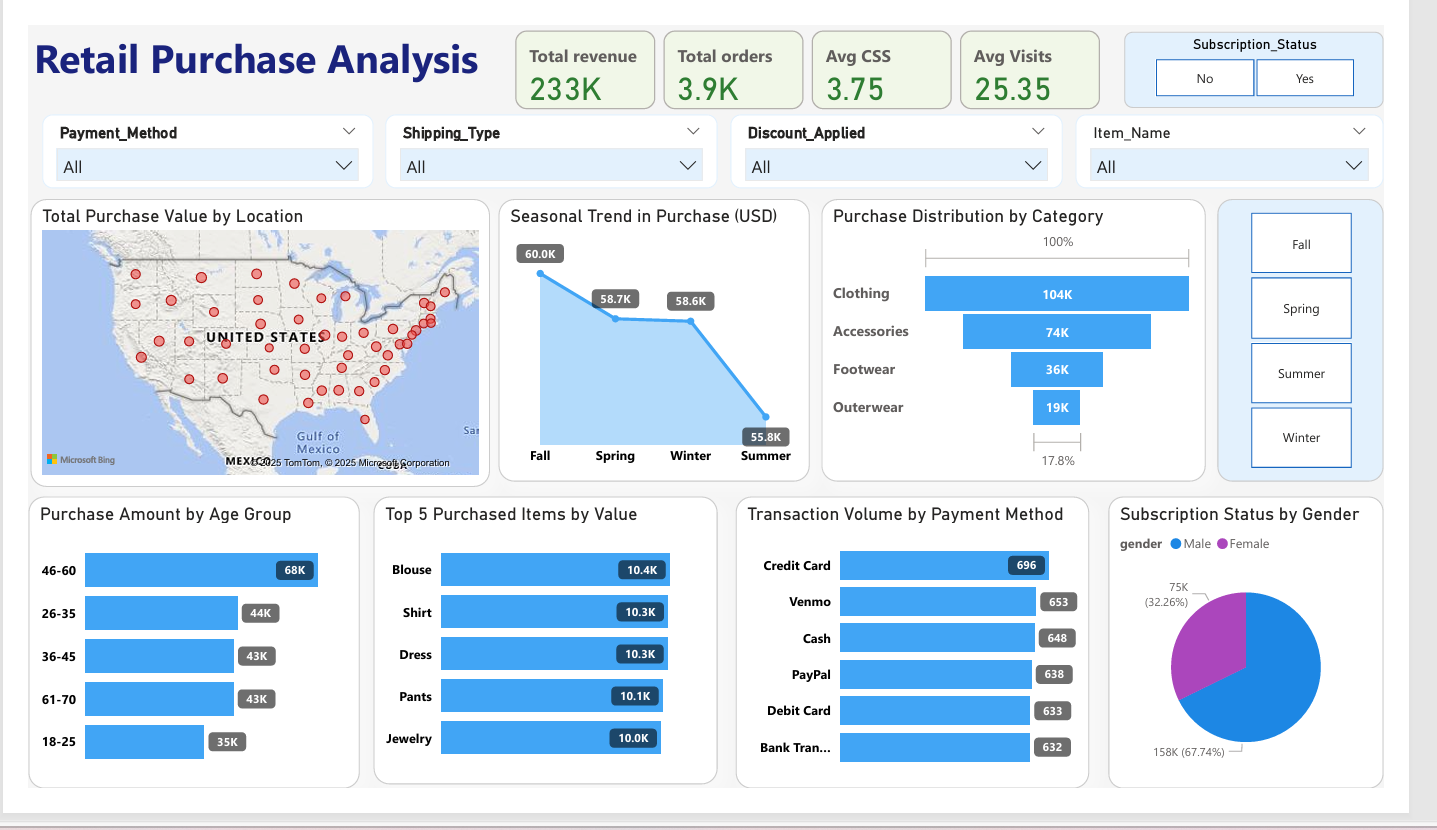

What the dashboard file says about the page in this screenshot:
{"tool":"powerbi","page":{"name":"Page 1","canvas":[1280,720],"ordinal":0},"visuals":[{"type":"textbox","box":[0,0,434.2,60.4],"z":0},{"type":"funnel","title":"Purchase Distribution by Category","fields":{"Category":["public shopping_data.category"],"Y":["Sum(public shopping_data.purchase_amount_usd)"]},"box":[749.2,163.8,362.7,267.2],"z":1000},{"type":"clusteredBarChart","title":"Purchase Amount by Age Group","fields":{"Category":["public shopping_data.AGE1"],"Y":["Sum(public shopping_data.purchase_amount_usd)"]},"box":[0,445.4,313.4,275.2],"z":2000},{"type":"clusteredBarChart","title":"Transaction Volume by Payment Method","fields":{"Category":["public shopping_data.payment_method"],"Y":["CountNonNull(public shopping_data.purchase_amount_usd)"]},"box":[668.1,445.4,334,275.2],"z":3000},{"type":"pieChart","title":"Sales by Gender","fields":{"Category":["public shopping_data.gender"],"Y":["Sum(public shopping_data.purchase_amount_usd)"]},"box":[1019.6,445.4,260.9,275.2],"z":4000},{"type":"map","title":"Total Purchase Value by Location","fields":{"Category":["public shopping_data.location"],"Size":["Sum(public shopping_data.purchase_amount_usd)"]},"box":[1.6,163.8,434.2,272],"z":5000},{"type":"areaChart","title":"Seasonal Trend in Purchase (USD)","fields":{"Category":["public shopping_data.season"],"Y":["Sum(public shopping_data.purchase_amount_usd)"]},"box":[443.8,163.8,294.3,267.2],"z":6000},{"type":"cardVisual","fields":{"Data":["Sum(public shopping_data.purchase_amount_usd)","CountNonNull(public shopping_data.purchase_amount_usd)","Avg(public shopping_data.review_rating)","Avg(public shopping_data.previous_purchases)"]},"box":[454.9,0,564.7,84.3],"z":7000},{"type":"barChart","title":"Top 5 Purchased Items by Value","fields":{"Y":["Sum(public shopping_data.purchase_amount_usd)"],"Category":["public shopping_data.item_purchased"]},"box":[326.1,445.4,324.5,272],"z":8000},{"type":"slicer","fields":{"Values":["public shopping_data.season"]},"box":[1123,163.8,157.5,267.2],"z":9000},{"type":"slicer","title":"Subscription_Status","fields":{"Values":["public shopping_data.subscription_status"]},"box":[1035.5,6.4,245,71.6],"z":10000},{"type":"slicer","fields":{"Values":["public shopping_data.item_purchased"]},"box":[989.4,84.3,291.1,70],"z":11000},{"type":"slicer","fields":{"Values":["public shopping_data.discount_applied"]},"box":[663.3,84.3,313.4,70],"z":12000},{"type":"slicer","fields":{"Values":["public shopping_data.shipping_type"]},"box":[337.2,84.3,313.4,70],"z":13000},{"type":"slicer","fields":{"Values":["public shopping_data.payment_method"]},"box":[12.7,84.3,313.4,70],"z":14000}]}

Visuals, with their boxes in screenshot pixels (x1, y1, x2, y2), scaled from the page's 1280x720 canvas onto the 1437x830 screenshot:
textbox: <bbox>0, 0, 487, 70</bbox>
"Purchase Distribution by Category" funnel: <bbox>841, 189, 1248, 497</bbox>
"Purchase Amount by Age Group" clusteredBarChart: <bbox>0, 513, 352, 829</bbox>
"Transaction Volume by Payment Method" clusteredBarChart: <bbox>750, 513, 1125, 829</bbox>
"Sales by Gender" pieChart: <bbox>1145, 513, 1436, 829</bbox>
"Total Purchase Value by Location" map: <bbox>2, 189, 489, 502</bbox>
"Seasonal Trend in Purchase (USD)" areaChart: <bbox>498, 189, 829, 497</bbox>
cardVisual - Sum(public shopping_data.purchase_amount_usd) x CountNonNull(public shopping_data.purchase_amount_usd): <bbox>511, 0, 1145, 97</bbox>
"Top 5 Purchased Items by Value" barChart: <bbox>366, 513, 730, 827</bbox>
slicer - public shopping_data.season: <bbox>1261, 189, 1436, 497</bbox>
"Subscription_Status" slicer: <bbox>1163, 7, 1436, 90</bbox>
slicer - public shopping_data.item_purchased: <bbox>1111, 97, 1436, 178</bbox>
slicer - public shopping_data.discount_applied: <bbox>745, 97, 1096, 178</bbox>
slicer - public shopping_data.shipping_type: <bbox>379, 97, 730, 178</bbox>
slicer - public shopping_data.payment_method: <bbox>14, 97, 366, 178</bbox>
